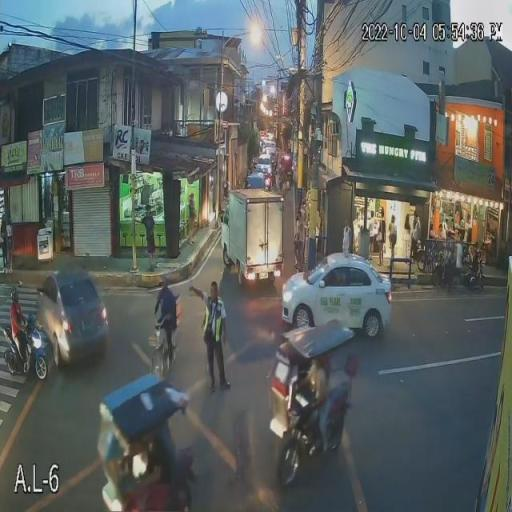motorcycle: (269, 318, 359, 486), (98, 373, 202, 512), (0, 313, 50, 381)
rider: (298, 346, 350, 450), (10, 290, 34, 363)
